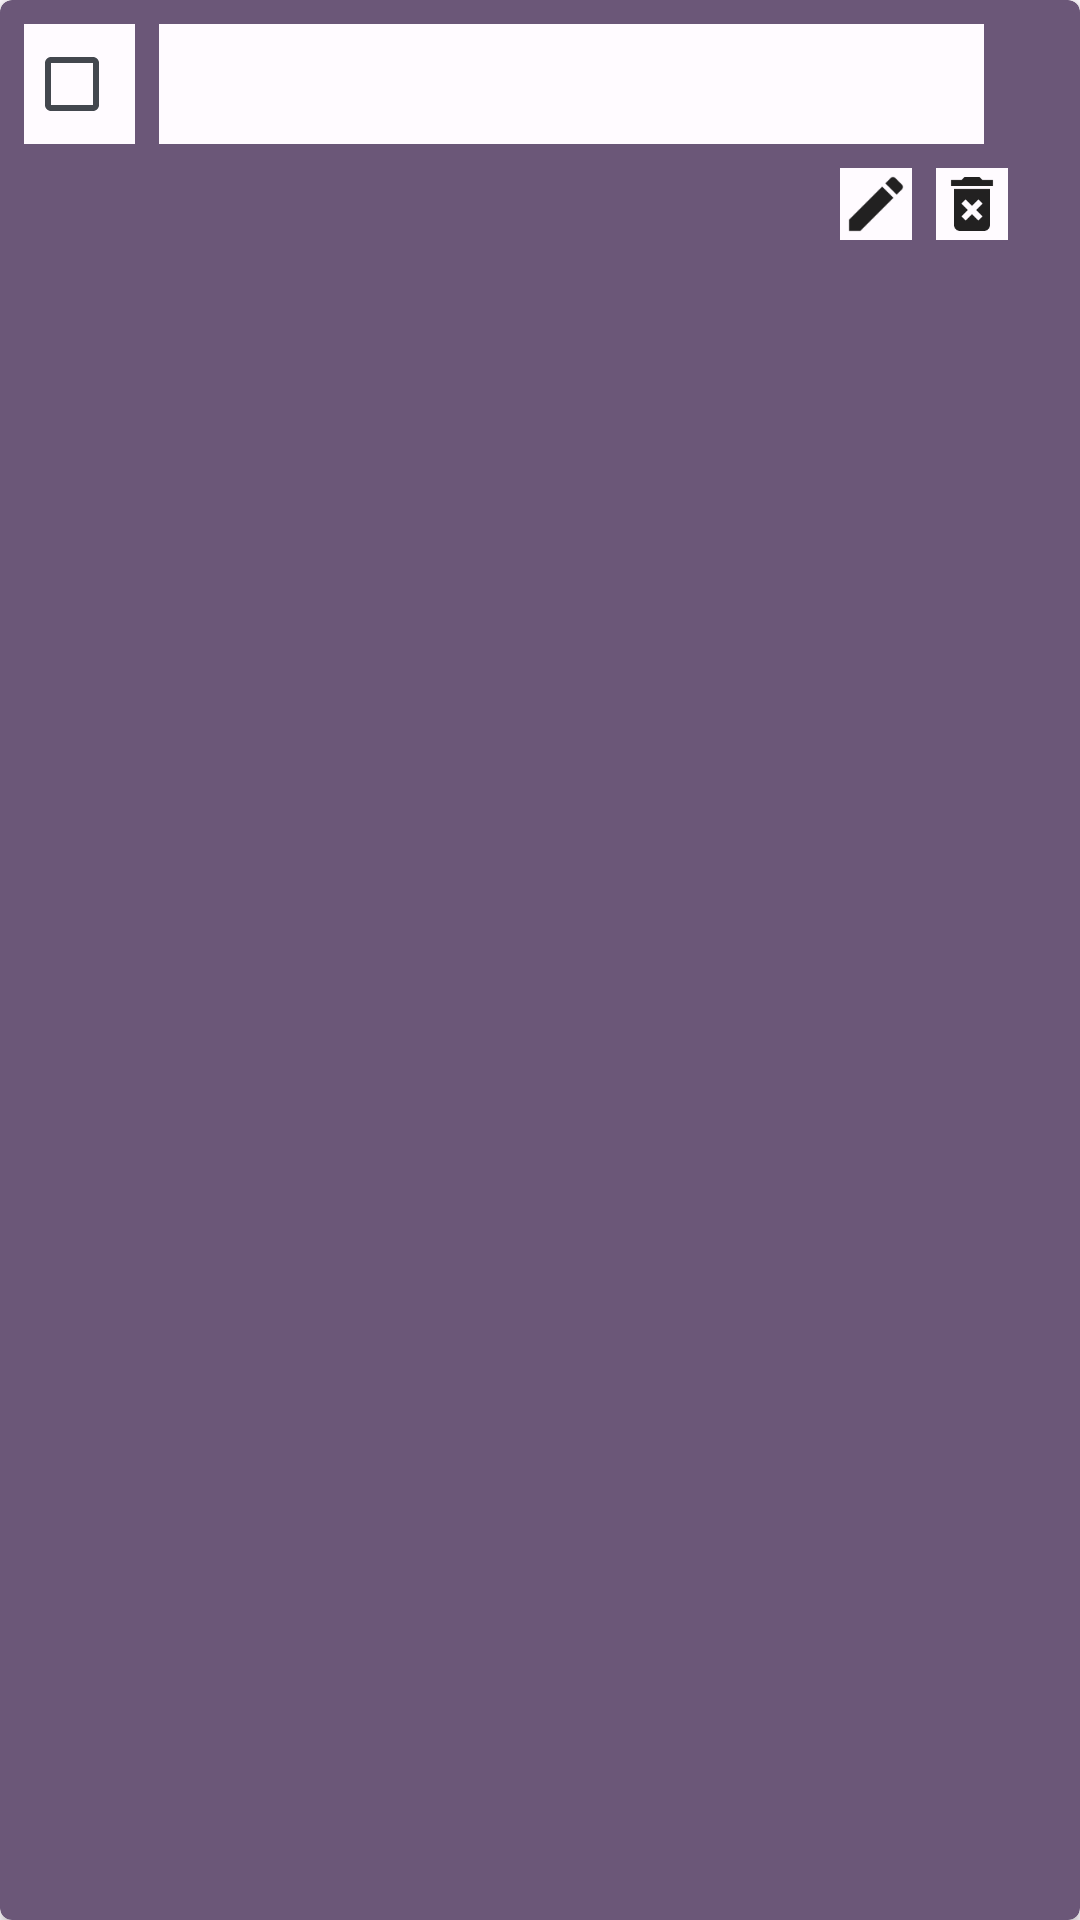

Named icons in this screenshot (1080 × 1920) and their bounding boxes, (x1, y1, x2, y2):
delete forever: (936, 168, 1008, 240)
edit: (840, 168, 912, 240)
